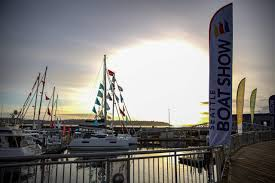boat: (68, 53, 131, 152), (1, 131, 43, 162)
